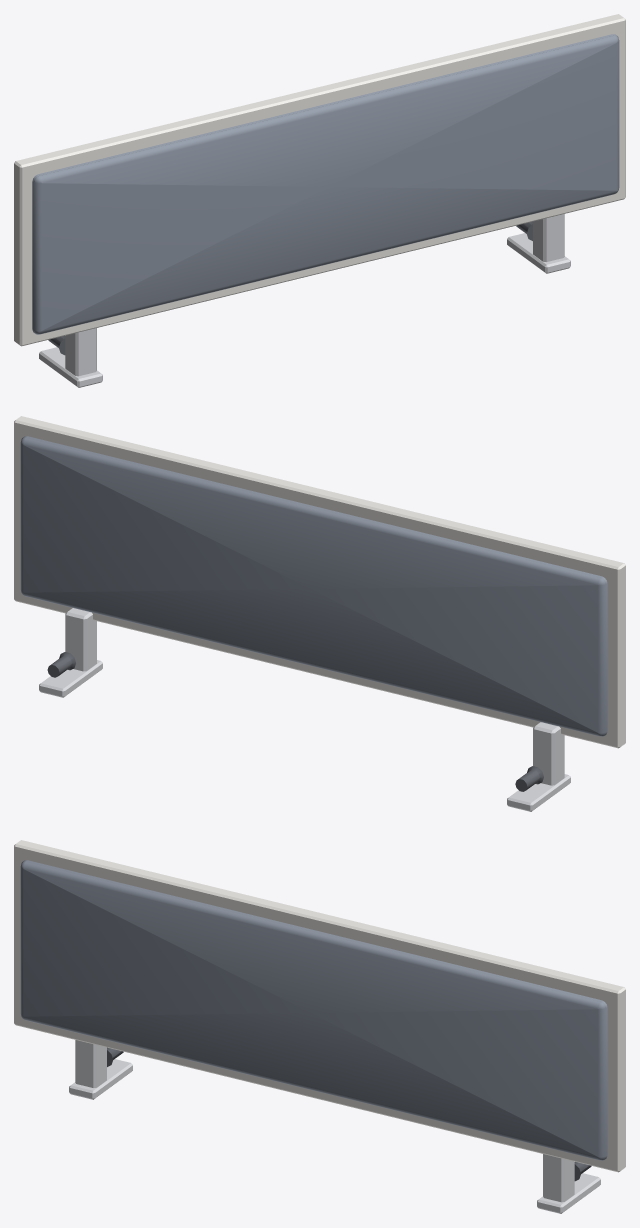
Rendered from downtown-office-interiors-desk-mounted-screen-6aeb87be__17045.glb.
3 renders of one model, top to bottom at view 1: azimuth 30°, elevation 25°; view 2: azimuth 150°, elevation 25°; view 3: azimuth 330°, elevation 25°, orthographic.
Visible parts, largest first — view 1: desk-mounted-screen; view 2: desk-mounted-screen; view 3: desk-mounted-screen.
Part boxes in pixels (x1,y1,x2,y2): desk-mounted-screen: (14,14,625,387); desk-mounted-screen: (14,416,625,811); desk-mounted-screen: (14,840,625,1213).
Size of the model in its own units: 1.4 by 0.52 by 0.177.
